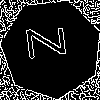Z: (26, 24, 75, 60)
